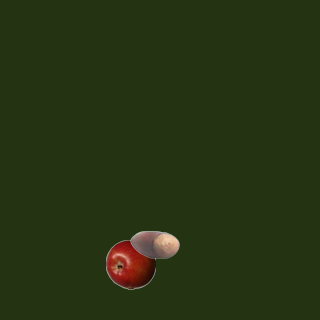Apple Braeburn: (105, 239, 155, 289)
Hazelnut: (129, 219, 179, 269)
